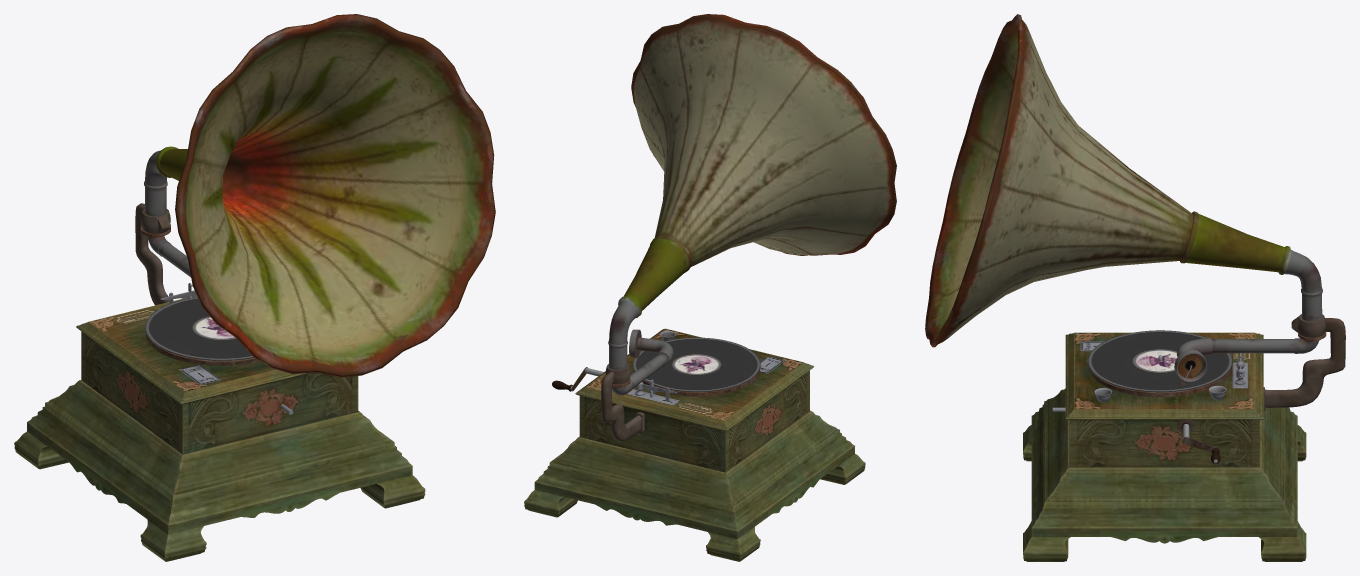
File: gramophone.glb
3 views of the same model, side by side, from view 1: azimuth 30°, elevation 25°; view 2: azimuth 150°, elevation 25°; view 3: azimuth 270°, elevation 25° (orthographic). The views are drawn at different scales.
Visible parts, largest first — view 1: Body_Low_Gramofone_0; view 2: Body_Low_Gramofone_0; view 3: Body_Low_Gramofone_0.
Boxes of the visible parts, x1,y1,x2,y2 form: Body_Low_Gramofone_0: (14, 14, 495, 561); Body_Low_Gramofone_0: (524, 14, 896, 561); Body_Low_Gramofone_0: (925, 14, 1345, 561).
Bounding box in the file's own units: 0.4558 × 0.7 × 0.5574.
1 material, 1 textured.
